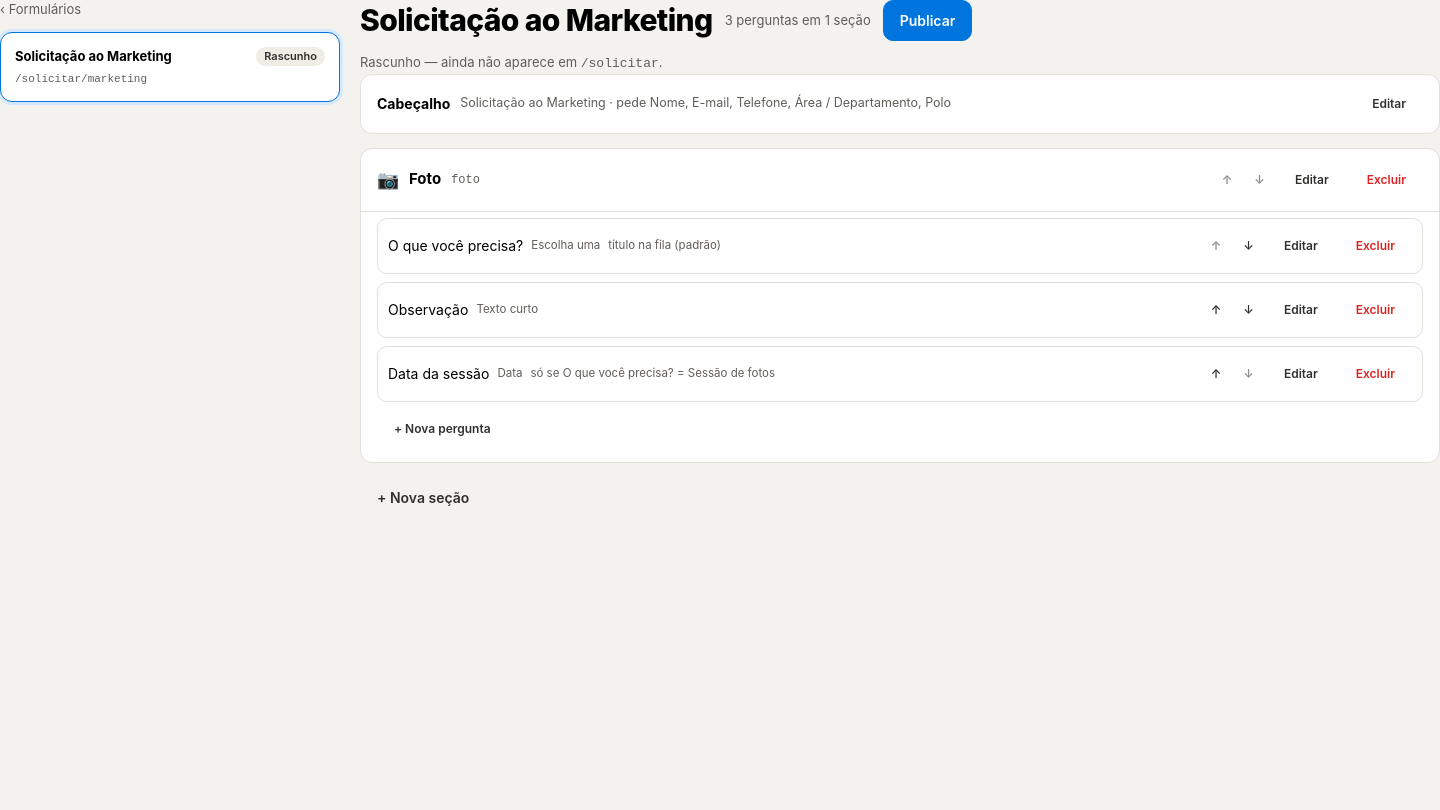
o cabeçalho do formulário › ⚠️ NOME e E-MAIL aparecem como sempre pedidos, e explicados
Click the button "Editar" in the row of "· pede" at (1389, 104), box [1355,84,1423,122]
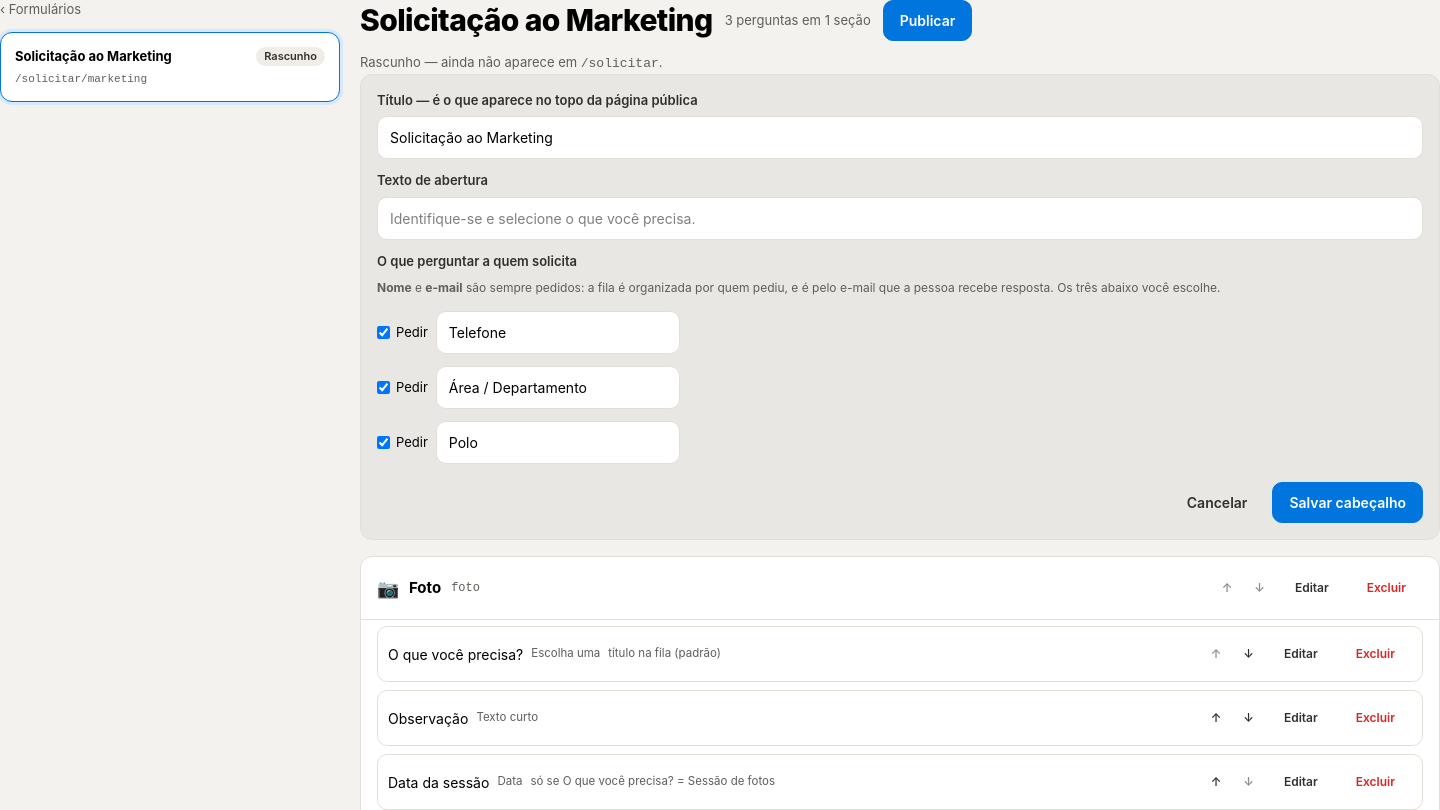
Expected: the text "são sempre pedidos" is shown, [462,280,1220,295]
